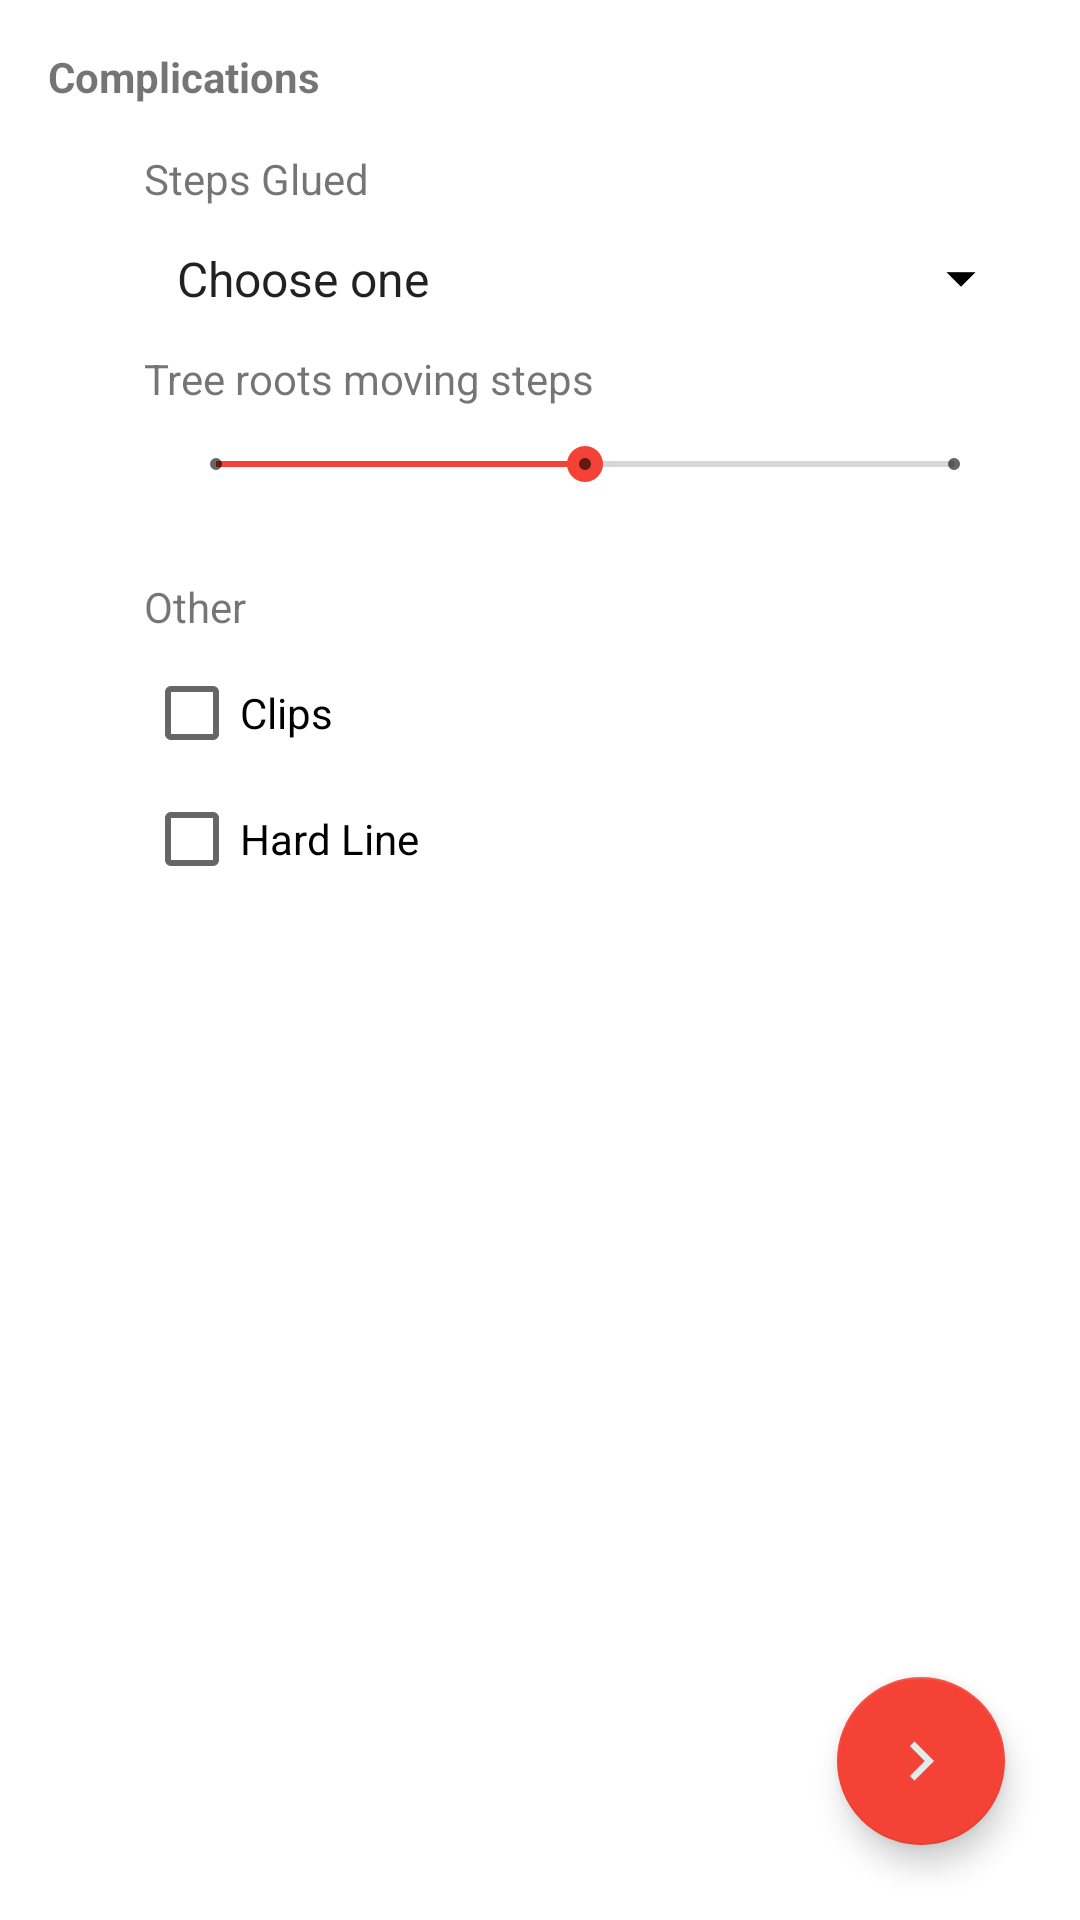

Named icons in this screenshot (1080*1920) and their centers, point (x, y):
right arrow: point (921, 1761)
